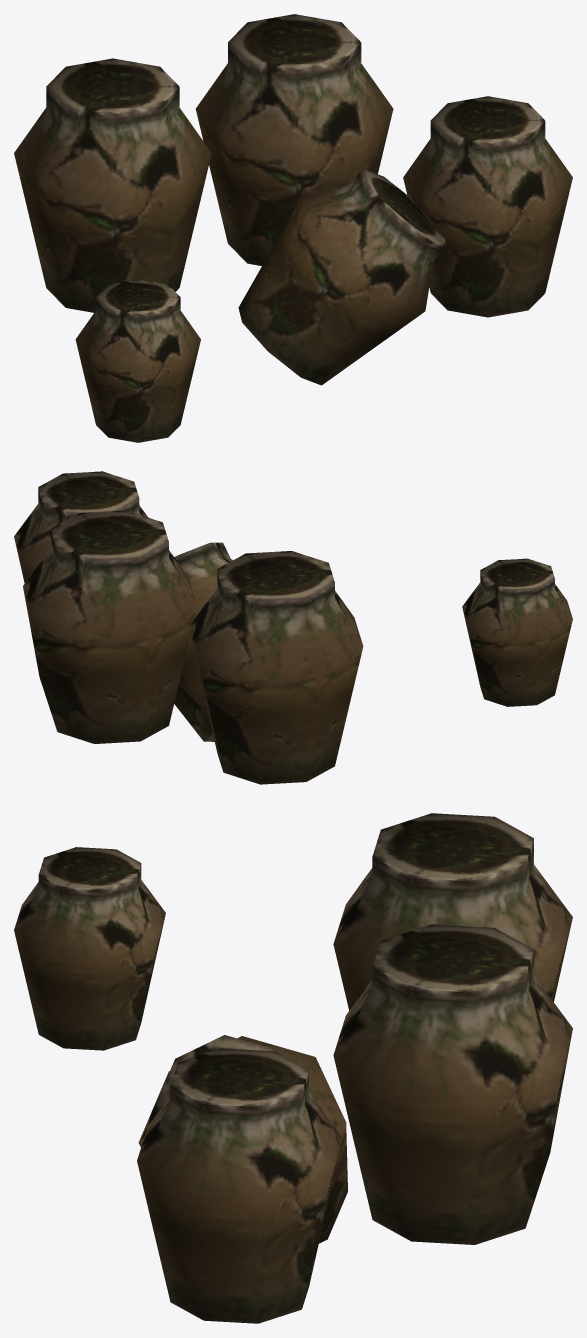
Rendered from Hangzhou_wj_048_1.FBX.
3 views of the same model, one above another, from view 1: azimuth 30°, elevation 25°; view 2: azimuth 150°, elevation 25°; view 3: azimuth 270°, elevation 25° (orthographic). The views are drawn at different scales.
Visible parts, largest first — view 1: Object02; view 2: Object02; view 3: Object02.
Part boxes in pixels (left/top/right/bottom): Object02: left=14, top=14, right=572, bottom=442; Object02: left=14, top=471, right=572, bottom=784; Object02: left=14, top=813, right=572, bottom=1323.
Size of the model in its own units: 117 by 55.91 by 84.96.
Materials: 1 (1 with a texture image).
